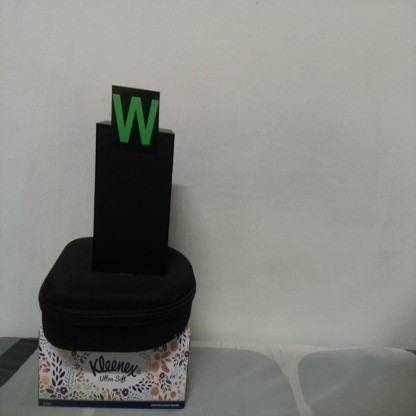id_12: (111, 86, 160, 157)
